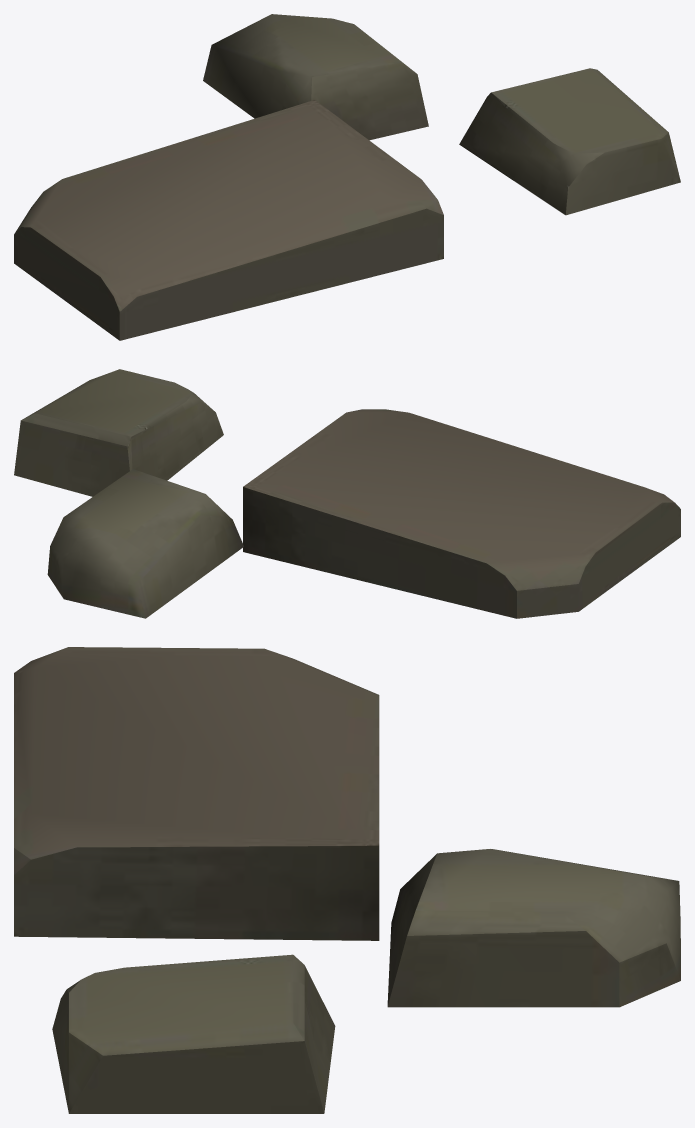
Rendered from OBJ_SmallRock_01.obj.
The picture shows the model from 3 angles, top to bottom: view 1: azimuth 30°, elevation 25°; view 2: azimuth 150°, elevation 25°; view 3: azimuth 270°, elevation 25°; orthographic projection. The views are drawn at different scales.
Parts seen in each view (by area): view 1: OBJ_SmallRock_01; view 2: OBJ_SmallRock_01; view 3: OBJ_SmallRock_01.
Boxes of the visible parts, <box> form: OBJ_SmallRock_01: <box>14,14,680,340</box>; OBJ_SmallRock_01: <box>14,369,680,618</box>; OBJ_SmallRock_01: <box>14,647,680,1113</box>.
Bounding box in the file's own units: 1.75 × 0.2034 × 1.23.
1 material, 1 textured.
